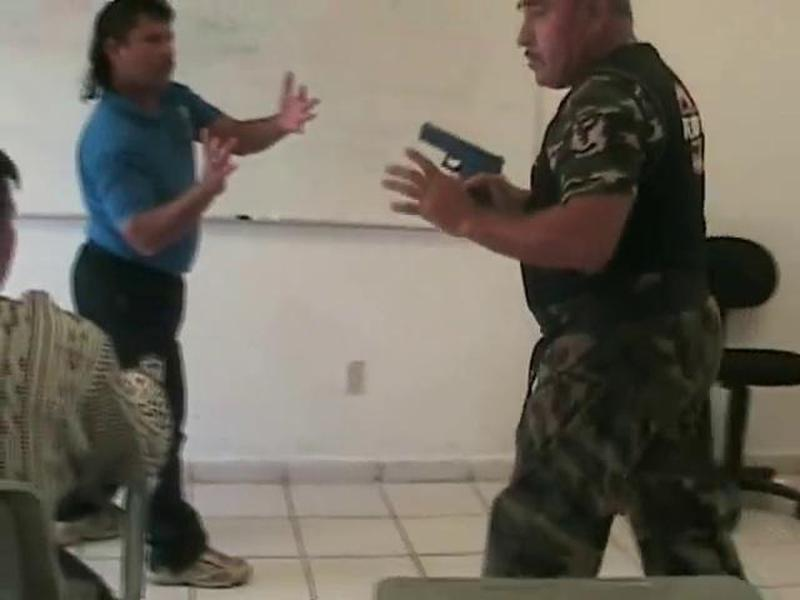Pistola: (394, 113, 516, 204)
